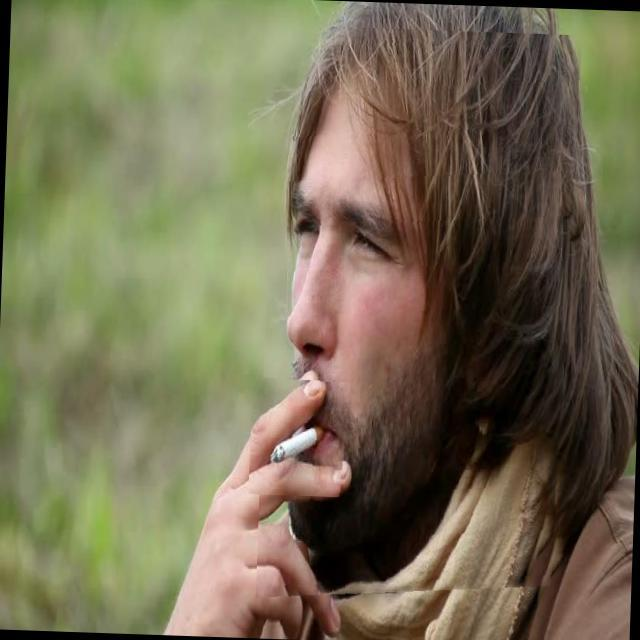cigarette: (248, 377, 350, 497)
